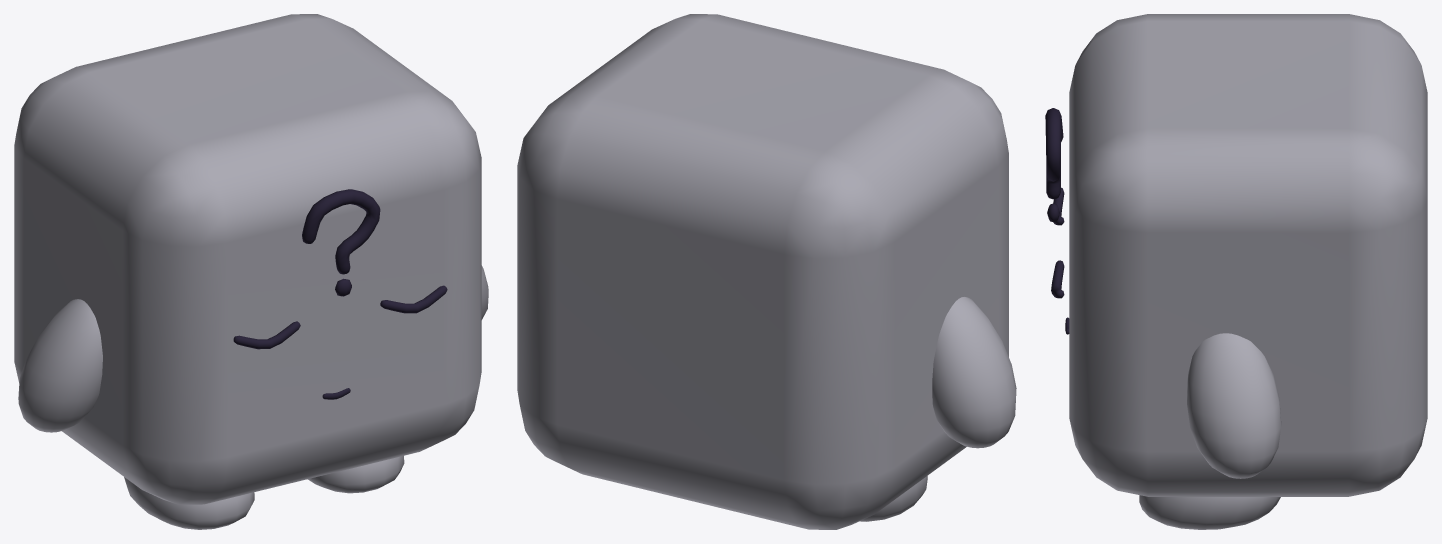
Rendered from character-hidden.fbx.
The picture shows the model from 3 angles, left to right: view 1: azimuth 30°, elevation 25°; view 2: azimuth 150°, elevation 25°; view 3: azimuth 270°, elevation 25°; orthographic projection. The views are drawn at different scales.
Parts seen in each view (by area): view 1: Body, Arm_R, Foot_R, Accessory, Foot_L, Eye_L, Eye_R; view 2: Body, Arm_R, Foot_R; view 3: Body, Arm_L, Foot_L, Accessory.
Boxes of the visible parts, box(x1,y1,x2,y2) form: Body: box(14, 14, 481, 504); Arm_R: box(18, 299, 102, 432); Foot_R: box(124, 477, 254, 529); Accessory: box(302, 189, 380, 296); Foot_L: box(308, 455, 404, 493); Eye_L: box(380, 285, 447, 313); Eye_R: box(233, 321, 300, 349); Body: box(517, 14, 1008, 529); Arm_R: box(932, 297, 1016, 448); Foot_R: box(860, 476, 927, 521); Body: box(1069, 14, 1427, 496); Arm_L: box(1187, 333, 1281, 478); Foot_L: box(1139, 495, 1280, 529); Accessory: box(1045, 108, 1063, 222).
Bounding box in the file's own units: 1.03 × 0.846 × 0.7255.
